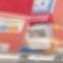2d: (26, 24, 49, 41)
